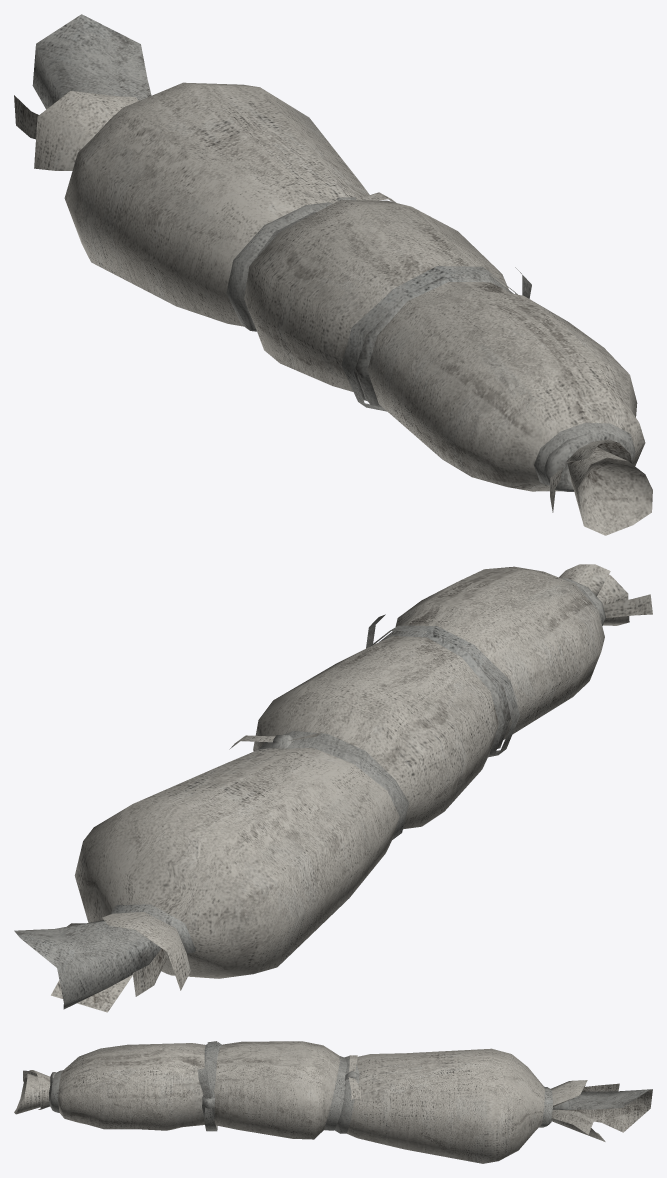
File: ritualPatung.FBX
3 renders of one model, top to bottom at view 1: azimuth 30°, elevation 25°; view 2: azimuth 150°, elevation 25°; view 3: azimuth 270°, elevation 25°, orthographic. The views are drawn at different scales.
Visible parts, largest first — view 1: ritualPatung; view 2: ritualPatung; view 3: ritualPatung.
Boxes of the visible parts, bbox=[...] form: ritualPatung: bbox=[14, 14, 652, 535]; ritualPatung: bbox=[14, 564, 652, 1012]; ritualPatung: bbox=[14, 1041, 652, 1163].
Bounding box in the file's own units: 6.88 × 5.5 × 30.17.
